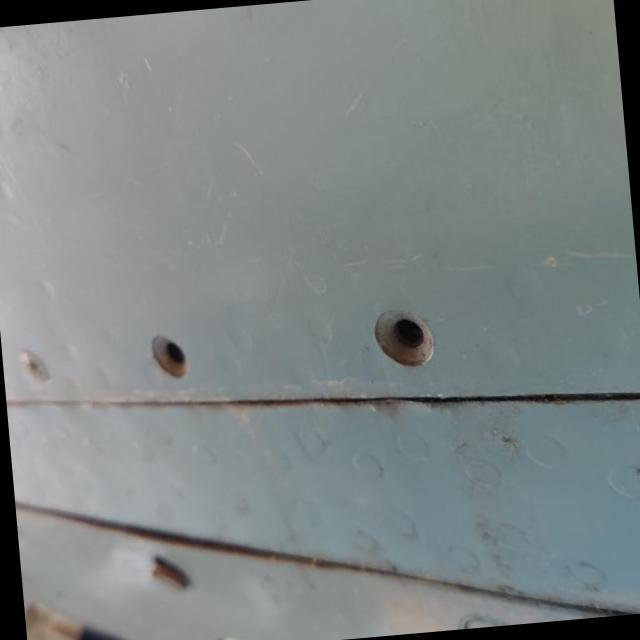Fastener Damage: (342, 271, 473, 407), (124, 312, 218, 413)
